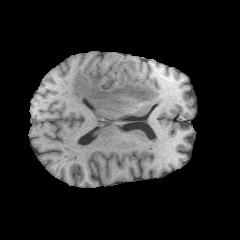glioma: (72, 59, 157, 113)
